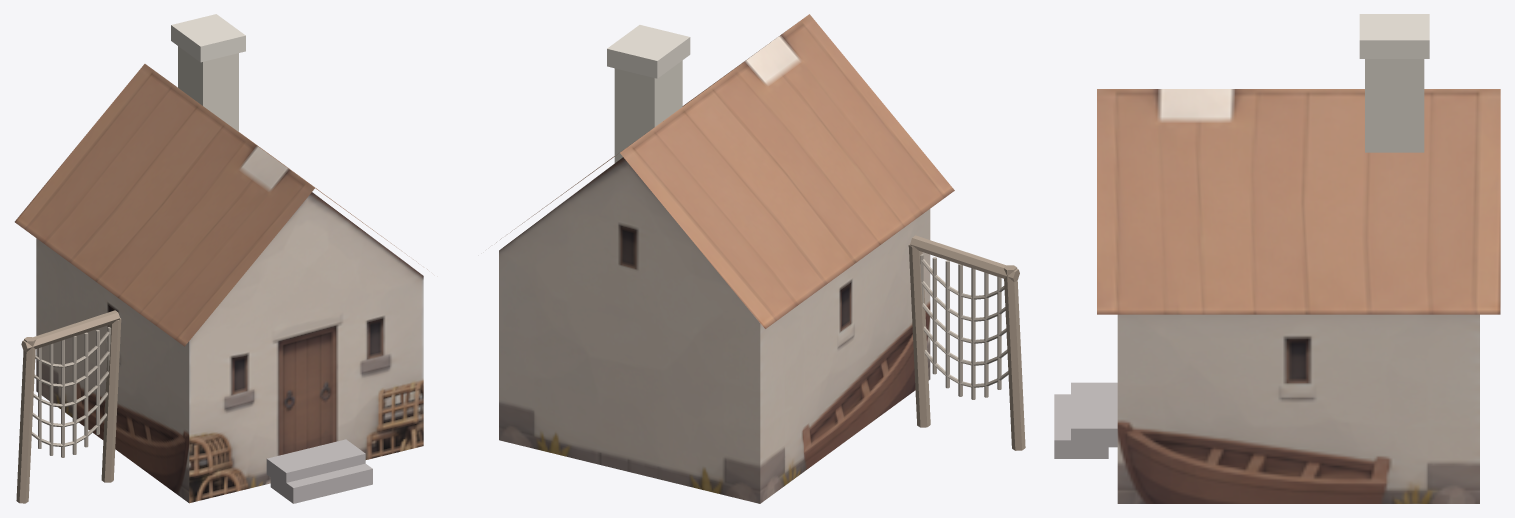
Rendered from house.glb.
3 views of the same model, side by side, from view 1: azimuth 30°, elevation 25°; view 2: azimuth 150°, elevation 25°; view 3: azimuth 270°, elevation 25° (orthographic). The views are drawn at different scales.
Visible parts, largest first — view 1: geometry_0, geometry_3, geometry_2, geometry_6, geometry_9, geometry_7, geometry_8, geometry_11, geometry_10, geometry_12, geometry_17, geometry_18 (+1 smaller); view 2: geometry_1, geometry_3, geometry_2, geometry_6, geometry_7, geometry_11, geometry_10, geometry_12, geometry_17, geometry_16, geometry_18; view 3: geometry_5, geometry_4, geometry_6, geometry_7, geometry_9, geometry_8.
Boxes of the visible parts, x1=… form: geometry_0: x1=189, y1=192, x2=423, y2=503; geometry_3: x1=14, y1=64, x2=314, y2=346; geometry_2: x1=36, y1=238, x2=189, y2=502; geometry_6: x1=178, y1=46, x2=238, y2=131; geometry_9: x1=266, y1=439, x2=365, y2=487; geometry_7: x1=171, y1=14, x2=245, y2=62; geometry_8: x1=270, y1=463, x2=372, y2=503; geometry_11: x1=16, y1=337, x2=35, y2=503; geometry_10: x1=101, y1=318, x2=121, y2=482; geometry_12: x1=21, y1=310, x2=119, y2=352; geometry_17: x1=72, y1=336, x2=76, y2=454; geometry_18: x1=84, y1=332, x2=88, y2=447; geometry_1: x1=499, y1=157, x2=760, y2=503; geometry_3: x1=620, y1=14, x2=954, y2=329; geometry_2: x1=760, y1=209, x2=930, y2=503; geometry_6: x1=614, y1=60, x2=682, y2=162; geometry_7: x1=607, y1=25, x2=690, y2=78; geometry_11: x1=1003, y1=265, x2=1025, y2=450; geometry_10: x1=908, y1=244, x2=930, y2=427; geometry_12: x1=910, y1=235, x2=1019, y2=281; geometry_17: x1=958, y1=264, x2=962, y2=396; geometry_16: x1=971, y1=268, x2=975, y2=399; geometry_18: x1=945, y1=260, x2=949, y2=388; geometry_5: x1=1097, y1=89, x2=1500, y2=314; geometry_4: x1=1117, y1=314, x2=1479, y2=503; geometry_6: x1=1365, y1=59, x2=1424, y2=152; geometry_7: x1=1359, y1=14, x2=1429, y2=58; geometry_9: x1=1071, y1=382, x2=1117, y2=447; geometry_8: x1=1054, y1=394, x2=1108, y2=458.
Bounding box in the file's own units: 1.98 × 1.79 × 1.72.
Materials: 6 (1 with a texture image).
